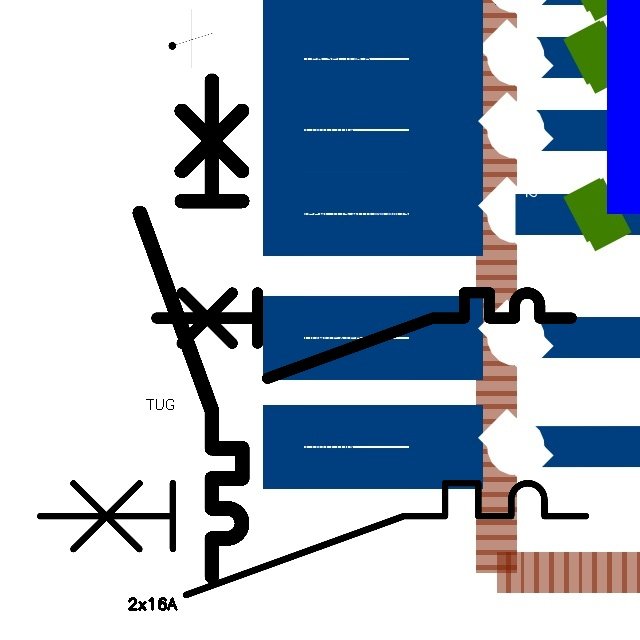interruptor_termomagnetico: (26, 469, 600, 609), (127, 67, 255, 588), (146, 282, 582, 389)
